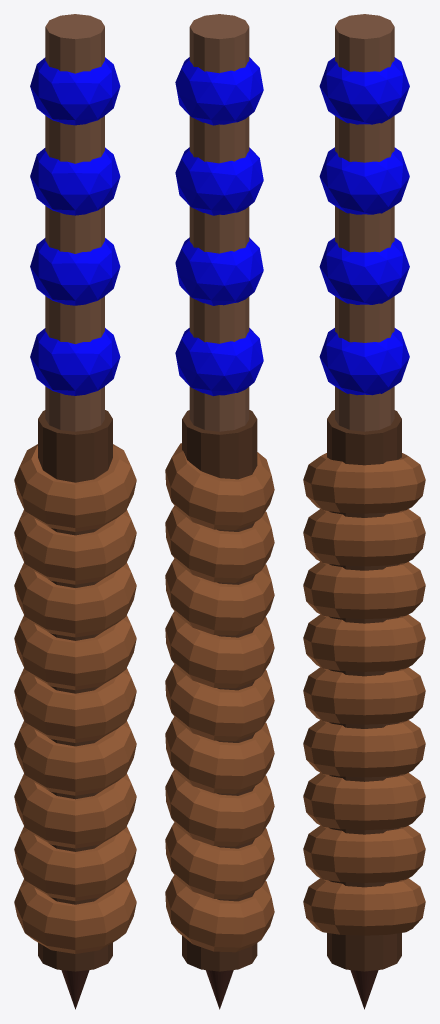
Rendered from Wand 432.glb.
3 renders of one model, left to right at view 1: azimuth 90°, elevation 25°; view 2: azimuth 150°, elevation 25°; view 3: azimuth 270°, elevation 25°, orthographic.
Visible parts, largest first — view 1: GeneratedWand; view 2: GeneratedWand; view 3: GeneratedWand.
Part boxes in pixels (<box>): GeneratedWand: <box>14,14,136,1009</box>; GeneratedWand: <box>165,14,274,1009</box>; GeneratedWand: <box>303,14,425,1009</box>.
Size of the model in its own units: 0.0497 by 0.5143 by 0.0581.
